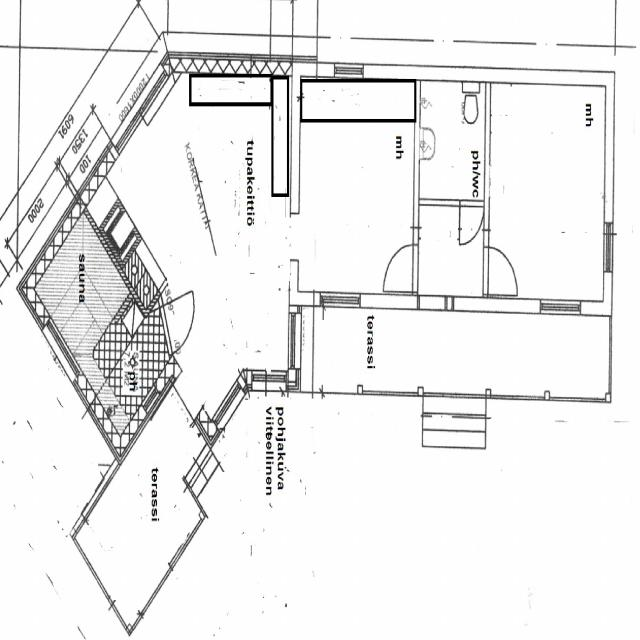door: (158, 286, 203, 354), (77, 331, 116, 396), (288, 319, 332, 368), (422, 300, 452, 367), (384, 245, 420, 293), (484, 248, 519, 295), (460, 198, 483, 245)
